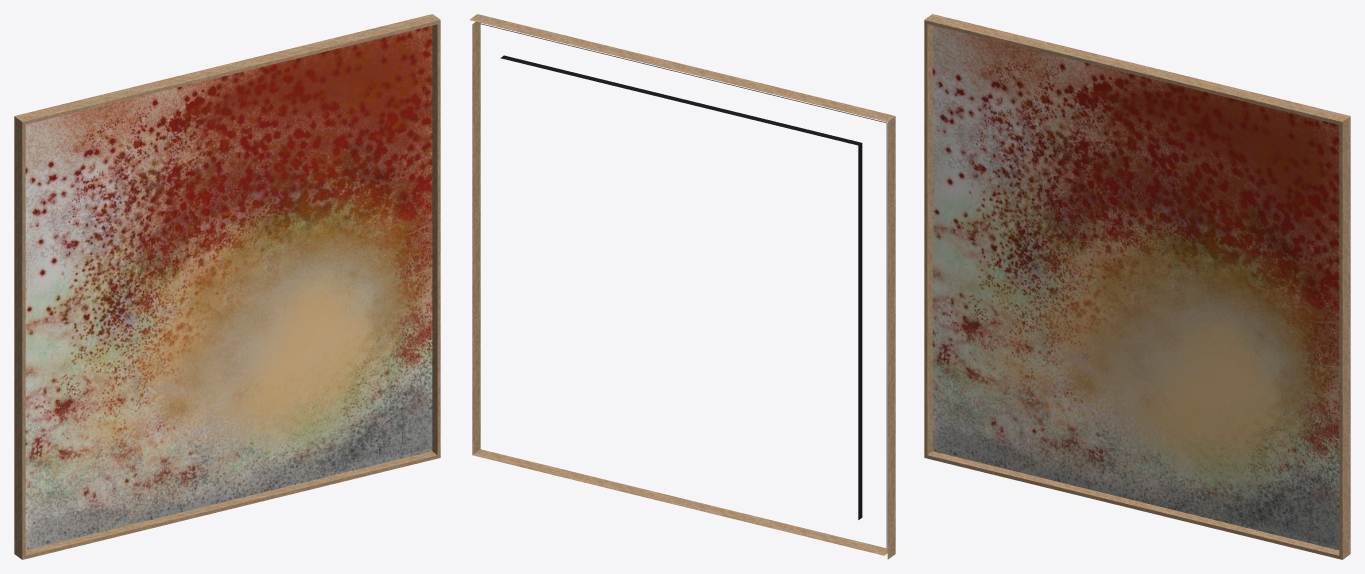
Rendered from va324_grand_caisse-chene.glb.
3 renders of one model, left to right at view 1: azimuth 30°, elevation 25°; view 2: azimuth 150°, elevation 25°; view 3: azimuth 330°, elevation 25°, orthographic.
Visible parts, largest first — view 1: va324_grand_caisse-chene; view 2: va324_grand_caisse-chene; view 3: va324_grand_caisse-chene.
Boxes of the visible parts, bbox=[...] form: va324_grand_caisse-chene: bbox=[14, 14, 440, 559]; va324_grand_caisse-chene: bbox=[469, 14, 895, 559]; va324_grand_caisse-chene: bbox=[924, 14, 1350, 559].
Bounding box in the file's own units: 1.03 × 1.03 × 0.035.
Materials: 4 (2 with a texture image).
